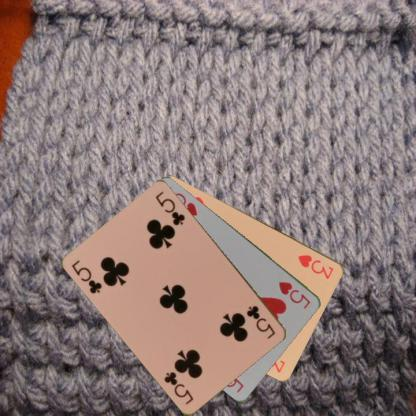3h: (295, 252, 335, 280)
5c: (69, 257, 104, 295), (244, 303, 277, 340)
5h: (276, 278, 312, 310)
